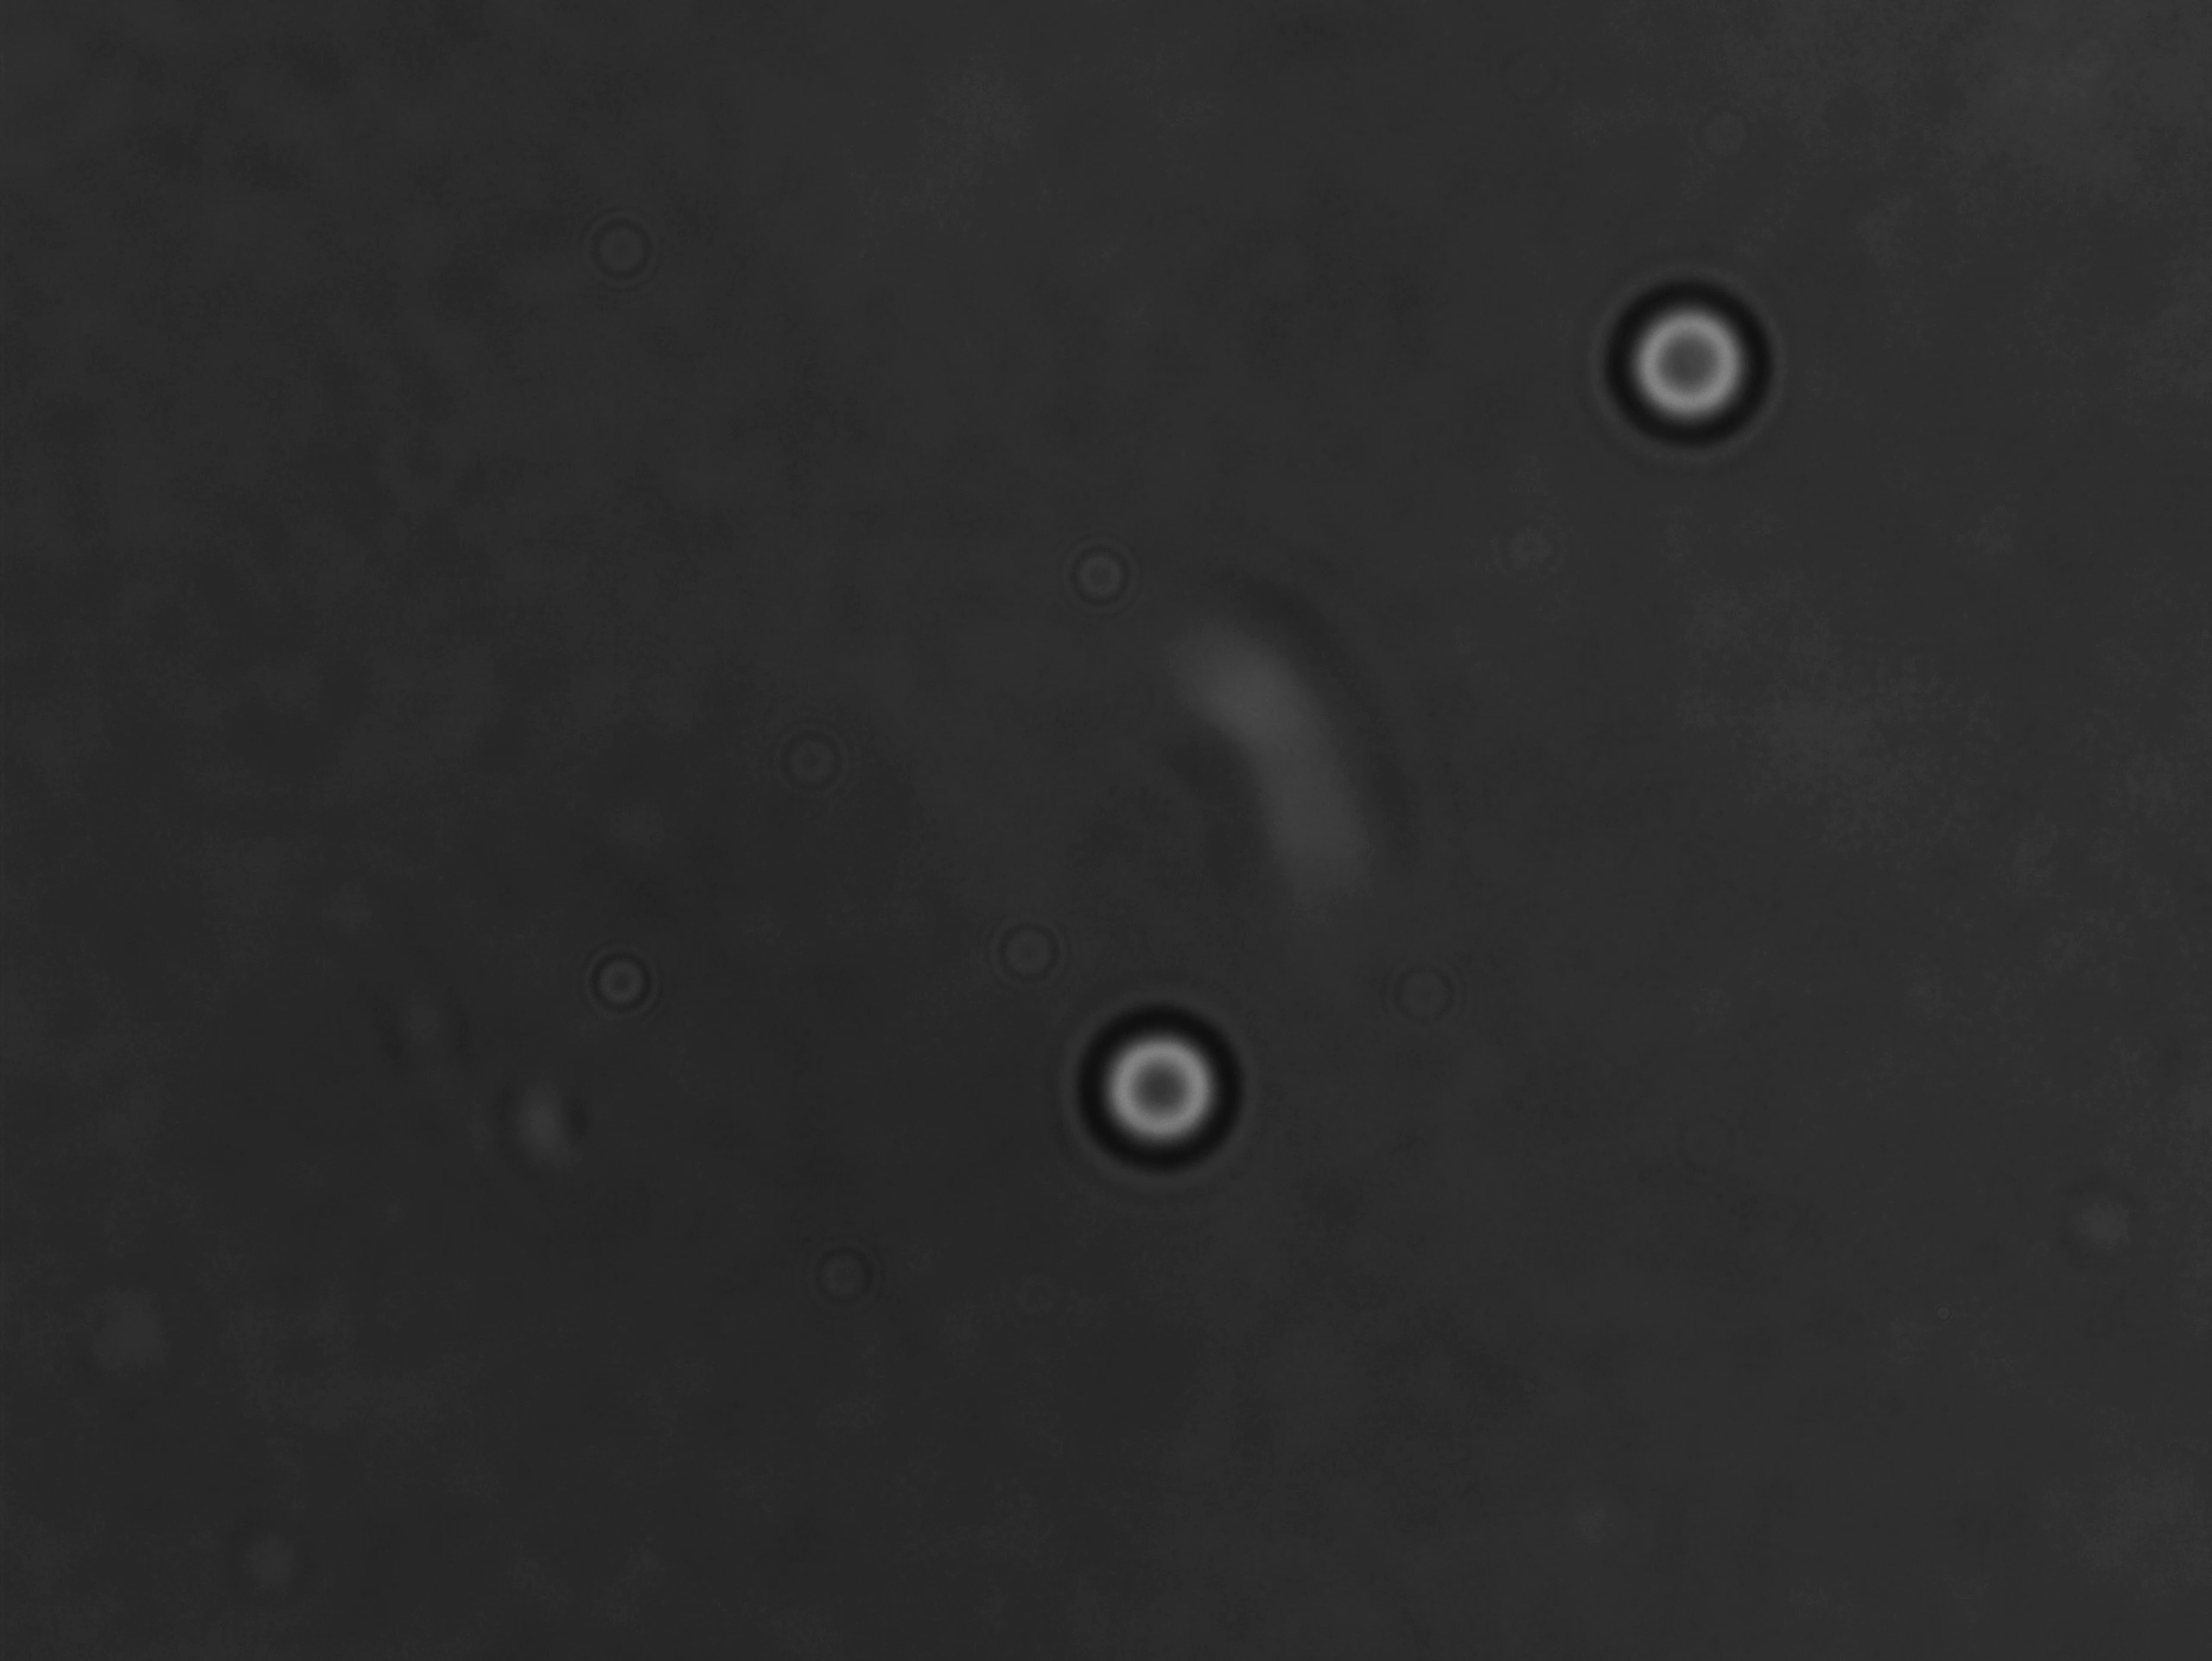depth:40: (1073, 974, 1282, 1186), (1594, 270, 1778, 461)
